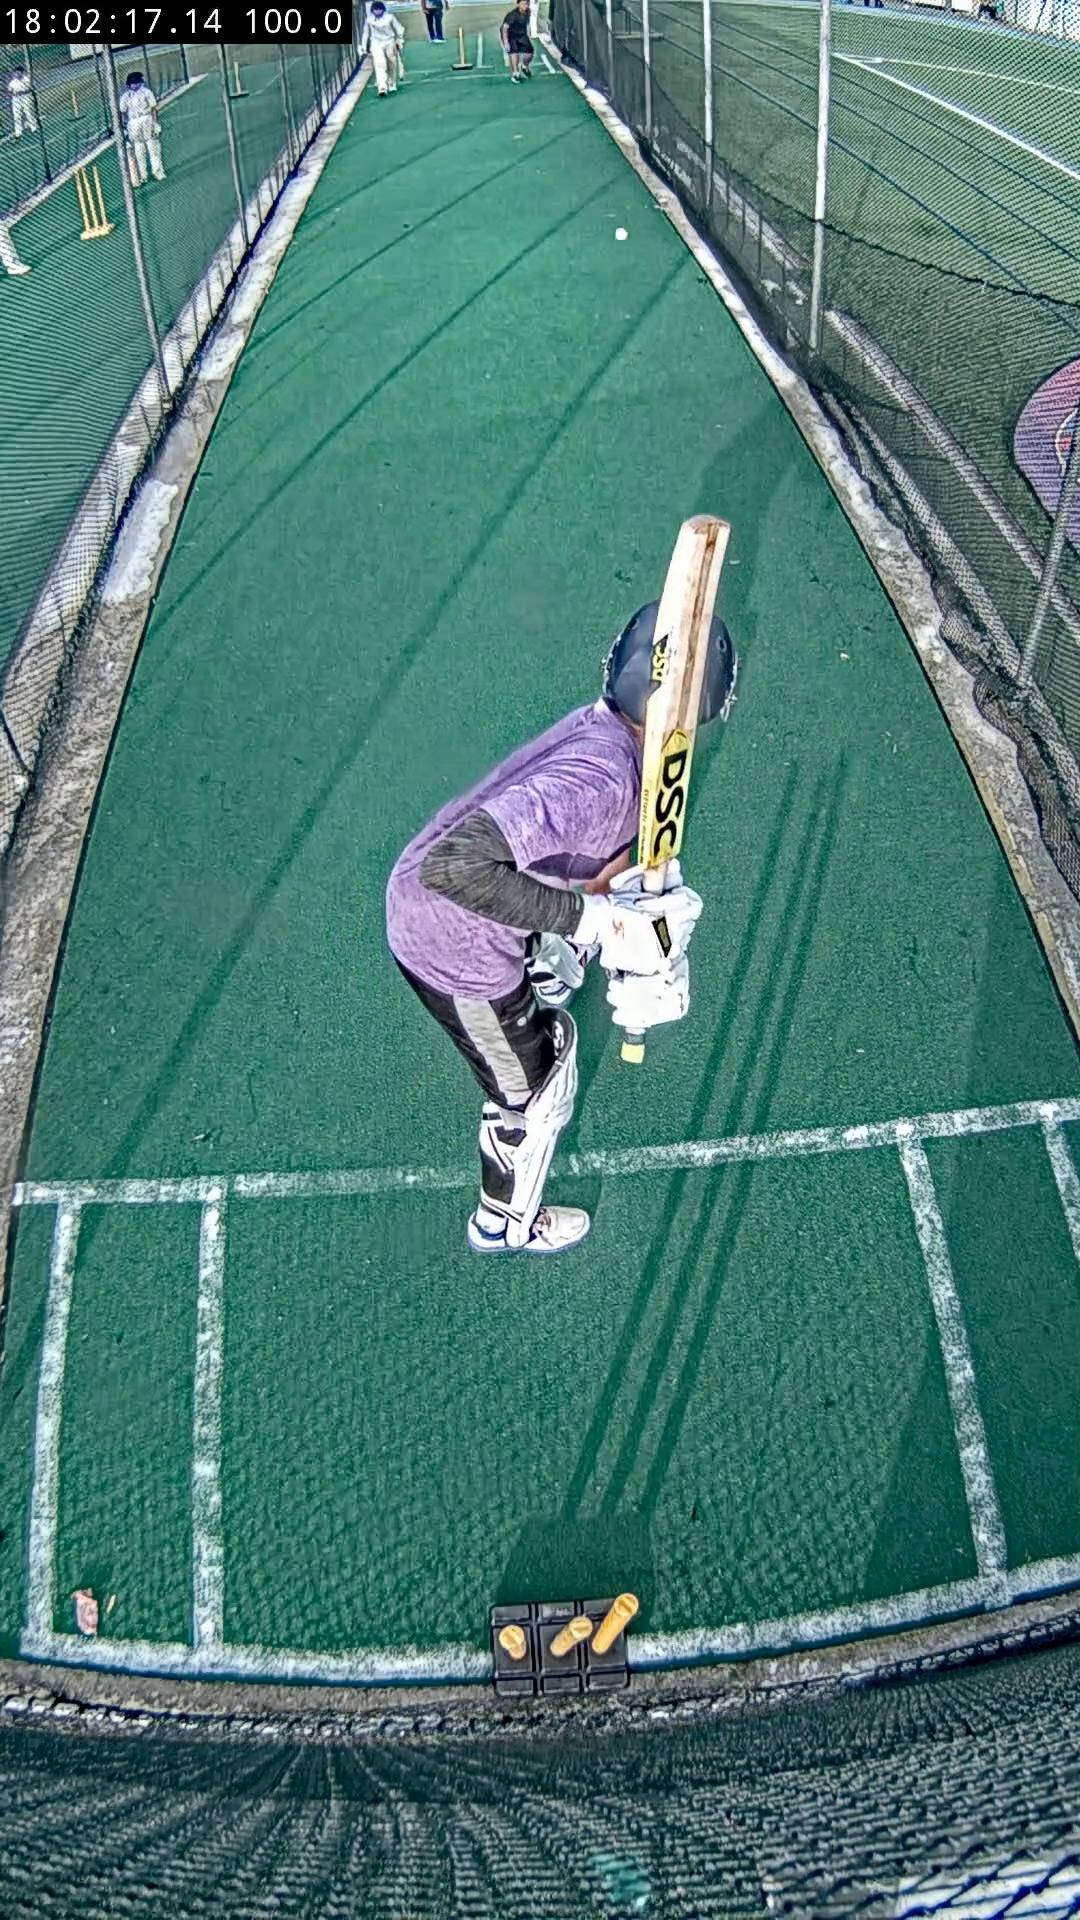ball: (615, 228, 630, 240)
bat: (637, 514, 732, 870)
gloves: (574, 885, 702, 1030)
helmet: (604, 600, 661, 724), (698, 615, 738, 719)
pads: (502, 1013, 578, 1249)
stumps: (492, 1594, 641, 1698)
